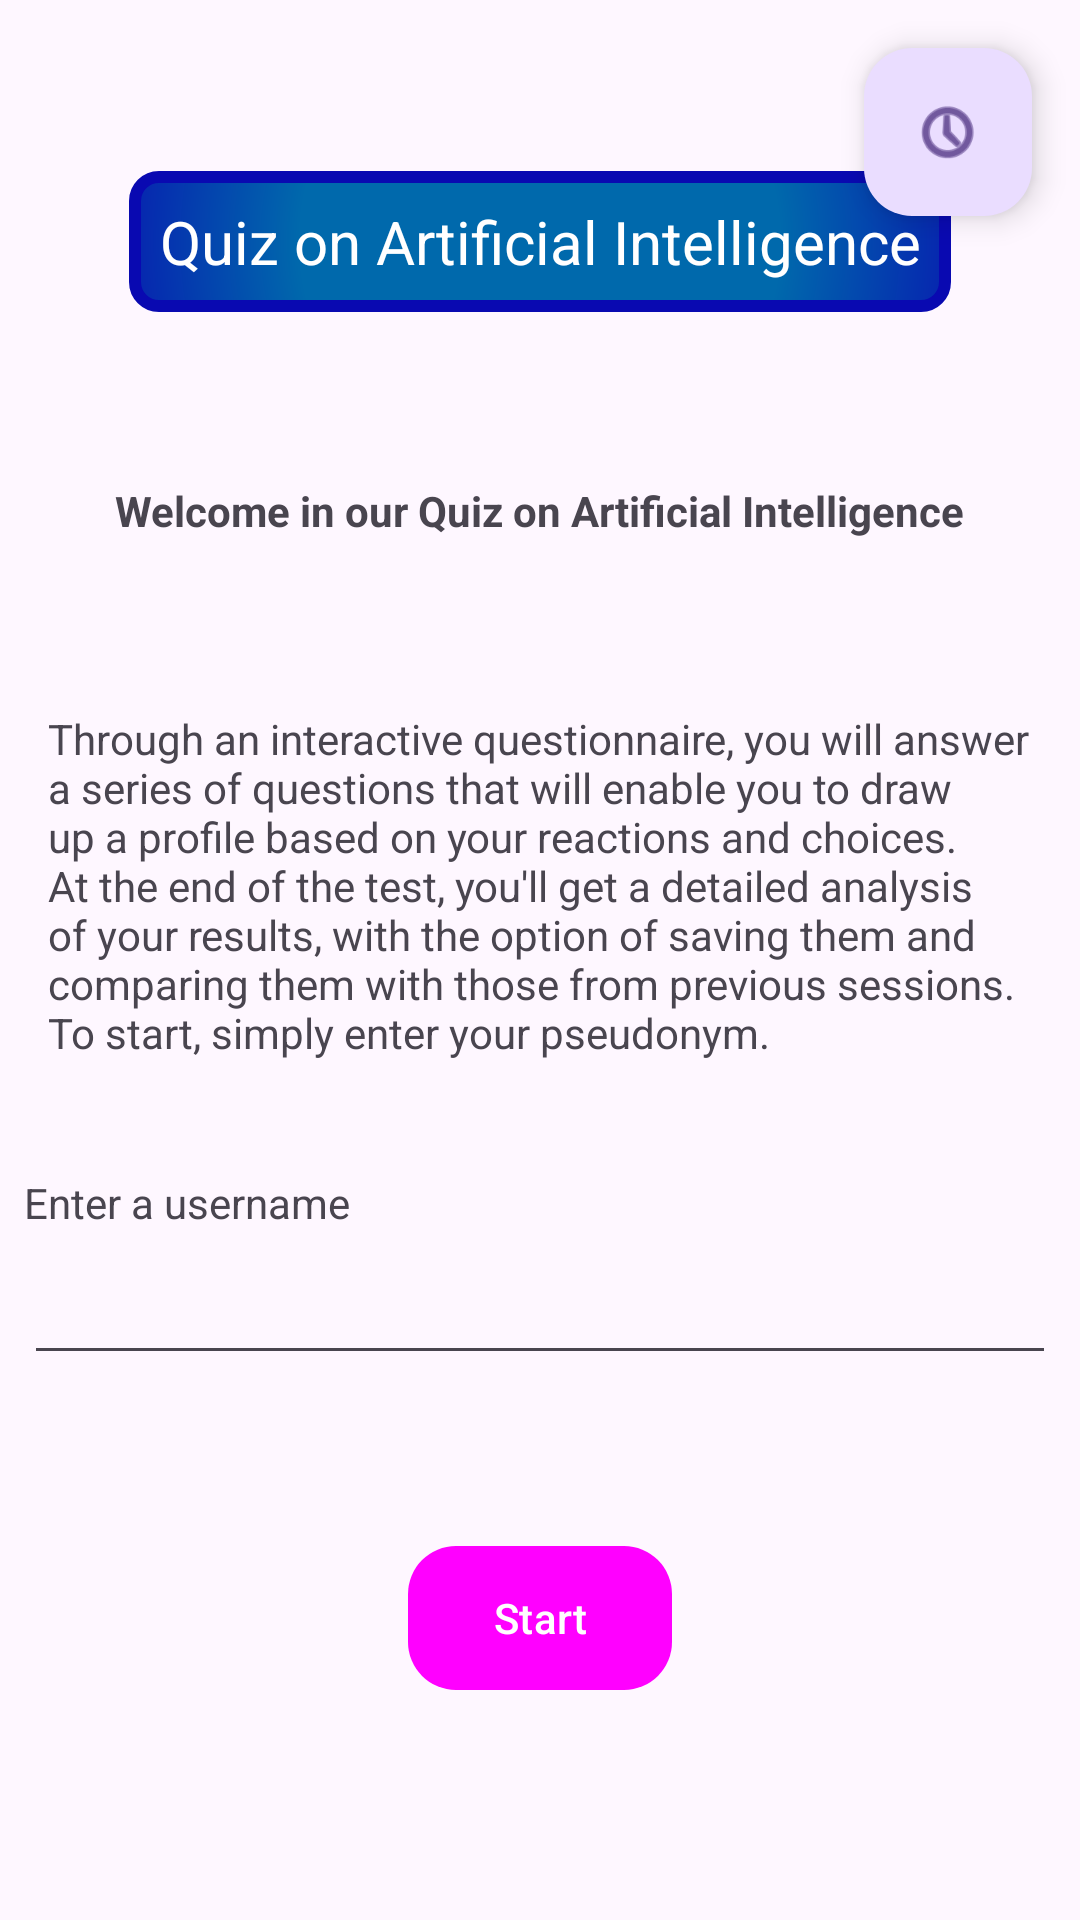

Where icons sit on this 1080 x 1920 app screen, as (x1=x1, y1=y1, x2=x2, y2=y2):
History: (x1=921, y1=106, x2=974, y2=159)
